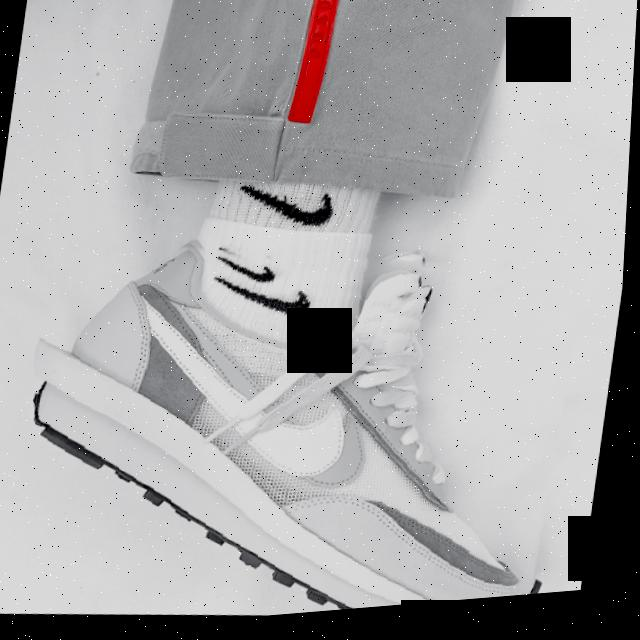shoe: (7, 205, 595, 638)
